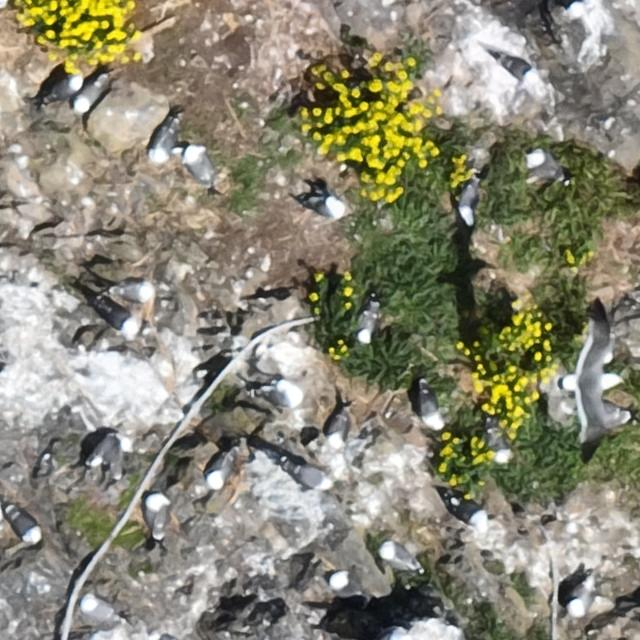F: (567, 319, 619, 433)
umineko: (85, 434, 134, 484), (150, 104, 179, 162), (82, 593, 127, 628), (287, 463, 332, 493), (500, 56, 540, 86), (8, 508, 41, 542), (146, 490, 168, 537), (488, 425, 512, 468), (103, 304, 139, 332), (451, 498, 486, 526), (185, 149, 212, 184), (527, 152, 560, 180), (418, 388, 441, 428), (381, 543, 417, 568), (75, 80, 103, 112), (308, 196, 345, 220), (46, 76, 80, 100), (208, 458, 234, 489), (358, 304, 378, 341), (460, 182, 478, 222), (115, 282, 150, 302), (569, 590, 595, 616), (329, 412, 347, 448), (330, 573, 356, 595)
